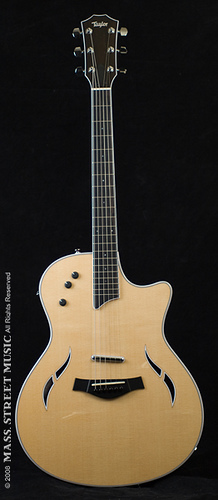guitar: (14, 12, 205, 483)
